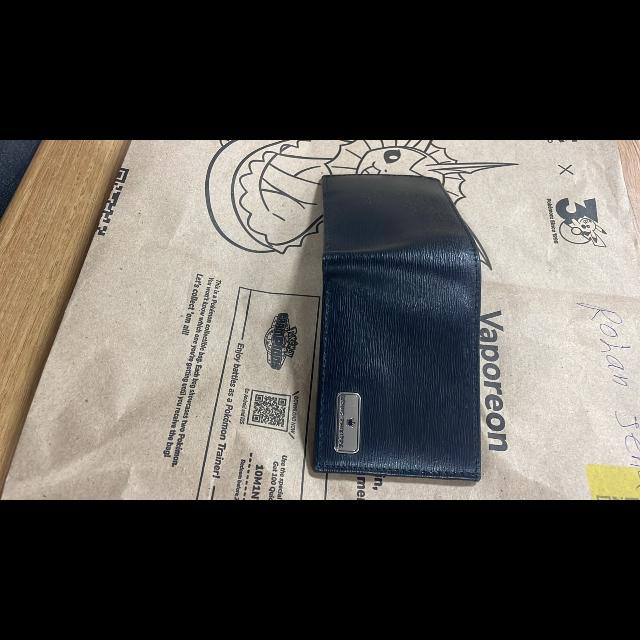wallet: (305, 164, 513, 493)
